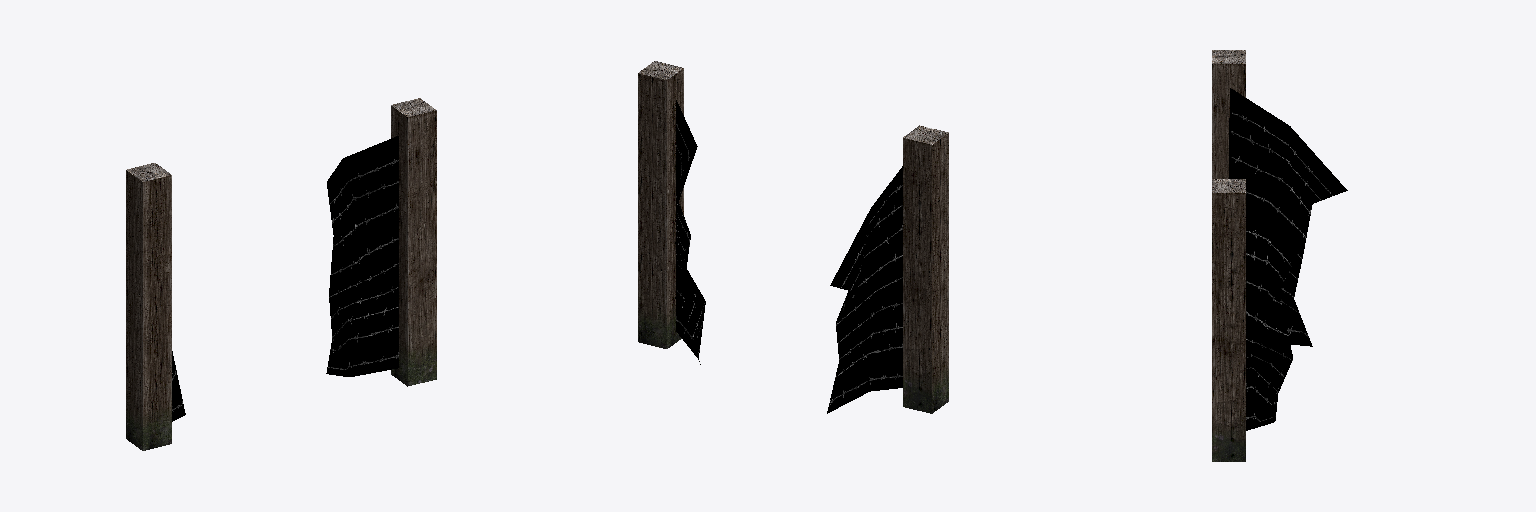
3 views of the same model, side by side, from view 1: azimuth 30°, elevation 25°; view 2: azimuth 150°, elevation 25°; view 3: azimuth 270°, elevation 25° (orthographic).
Parts seen in each view (by area): view 1: Fence_cut; view 2: Fence_cut; view 3: Fence_cut.
Part boxes in pixels (x1,y1,x2,y2): Fence_cut: (126, 98, 436, 450); Fence_cut: (638, 61, 948, 413); Fence_cut: (1212, 50, 1347, 461).
Bounding box in the file's own units: 2007 × 1755 × 800.
1 materials, 1 textured.